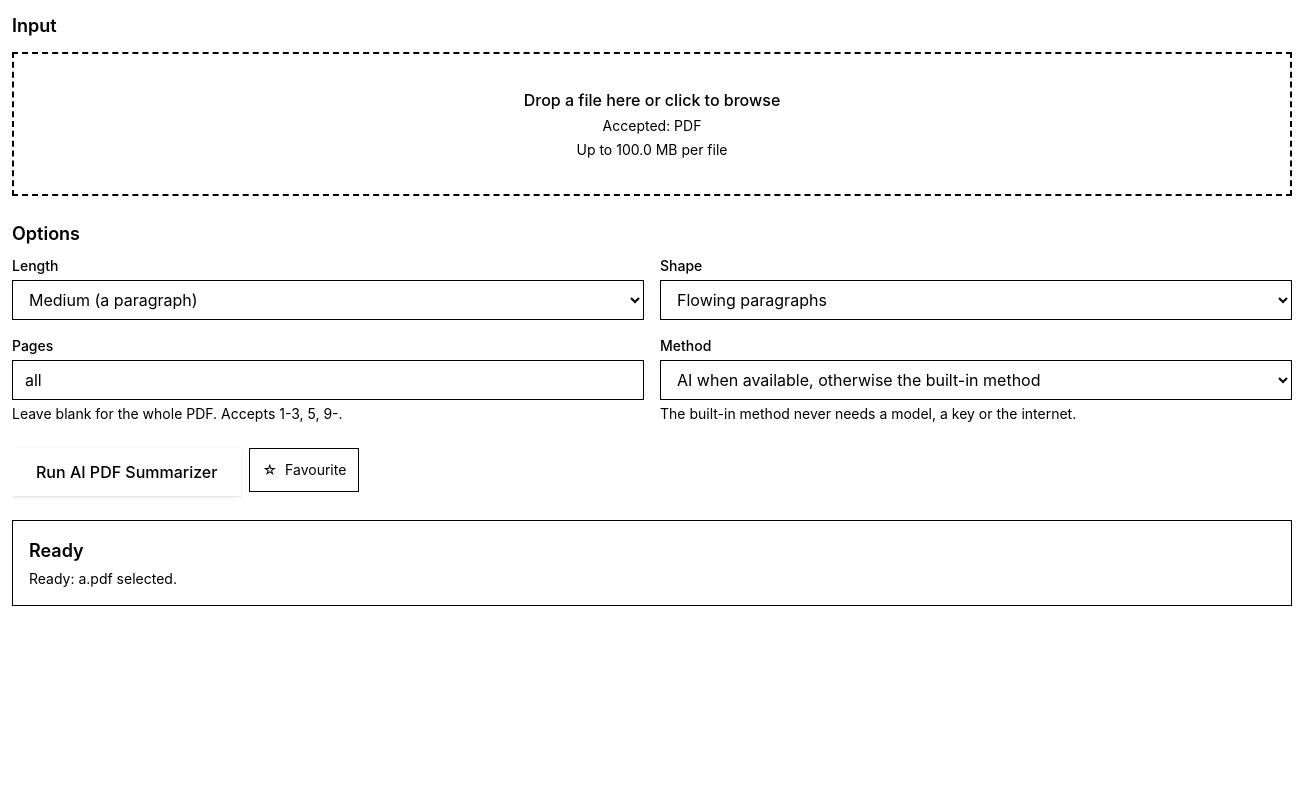
tool page › reports a not-implemented tool as unavailable instead of faking success
Click the button "Run AI PDF Summarizer" at x=127, y=472, box [12, 448, 242, 496]
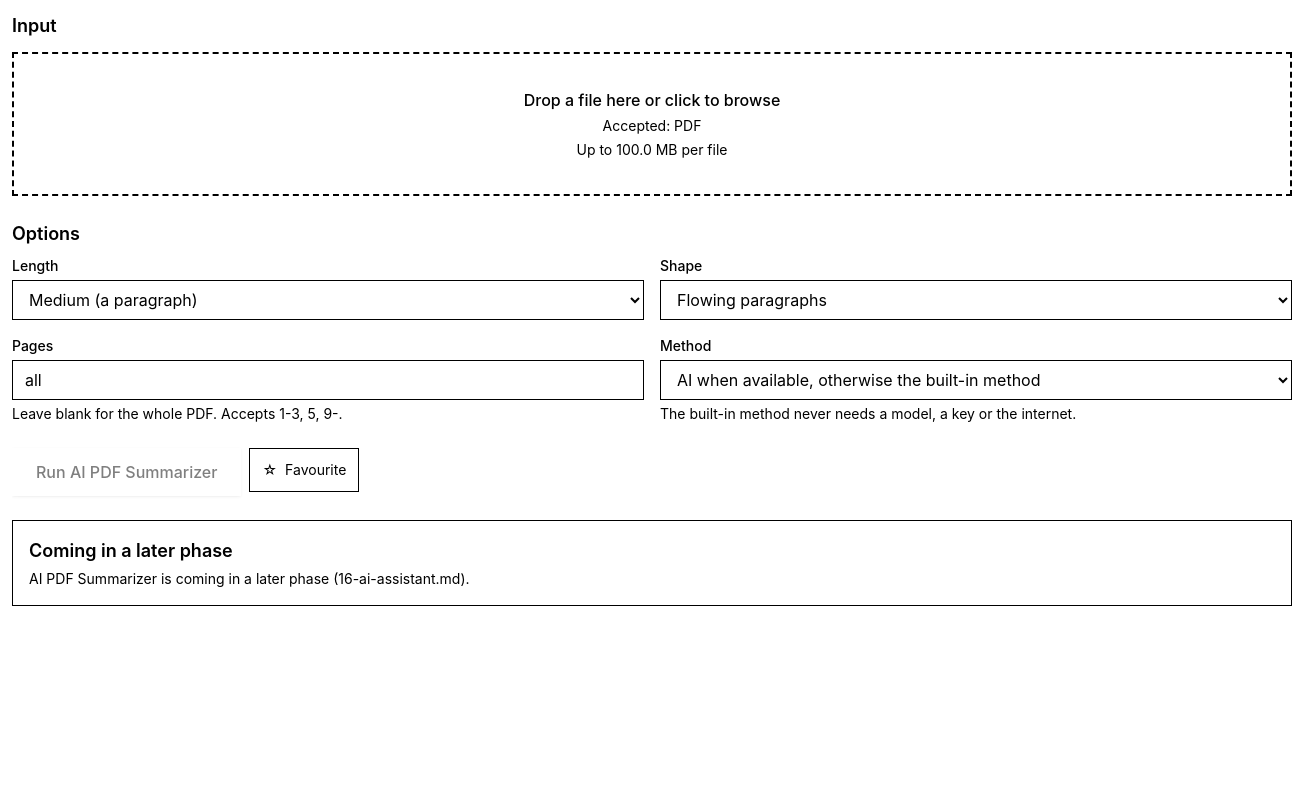
Result: the message shows "Coming in a later phase" at [29, 540, 233, 561]
